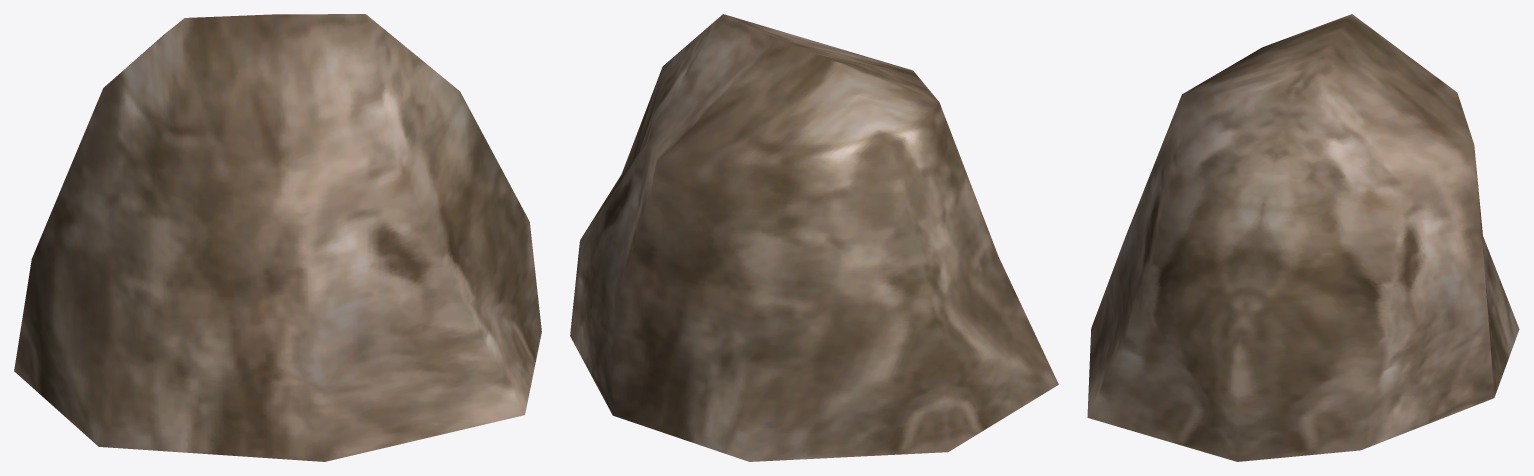
The model's file is OVERHILL_A_01_ROCK32.fbx.
The picture shows the model from 3 angles, left to right: view 1: azimuth 30°, elevation 25°; view 2: azimuth 150°, elevation 25°; view 3: azimuth 270°, elevation 25°; orthographic projection. The views are drawn at different scales.
Parts seen in each view (by area): view 1: OVERHILL_A_01_ROCK32; view 2: OVERHILL_A_01_ROCK32; view 3: OVERHILL_A_01_ROCK32.
Boxes of the visible parts, bbox=[...] form: OVERHILL_A_01_ROCK32: bbox=[14, 14, 541, 461]; OVERHILL_A_01_ROCK32: bbox=[570, 14, 1058, 461]; OVERHILL_A_01_ROCK32: bbox=[1087, 14, 1519, 461].
Size of the model in its own units: 25544 by 18461 by 22963.
Materials: 1 (1 with a texture image).
